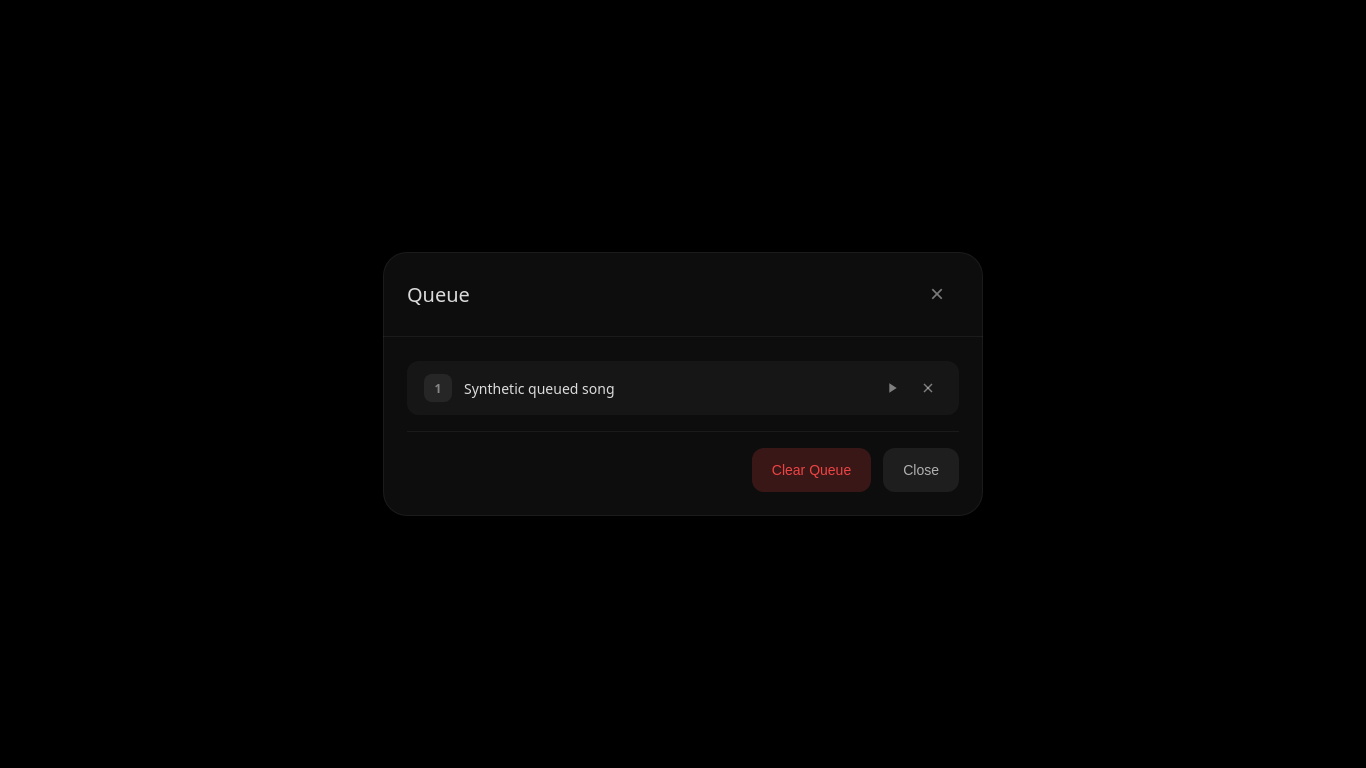
Test: Queue action refusal through the real API adapter › preserves confirmed data and exposes a refused play operation
Check: the text "Synthetic queued song" is shown, box x1=464 y1=378 x2=614 y2=398
What coordinates should you click on to do the following:
click the button named "Play Synthetic queued song now"
I would click on:
 (892, 388)
Its box is x1=878 y1=374 x2=906 y2=402.
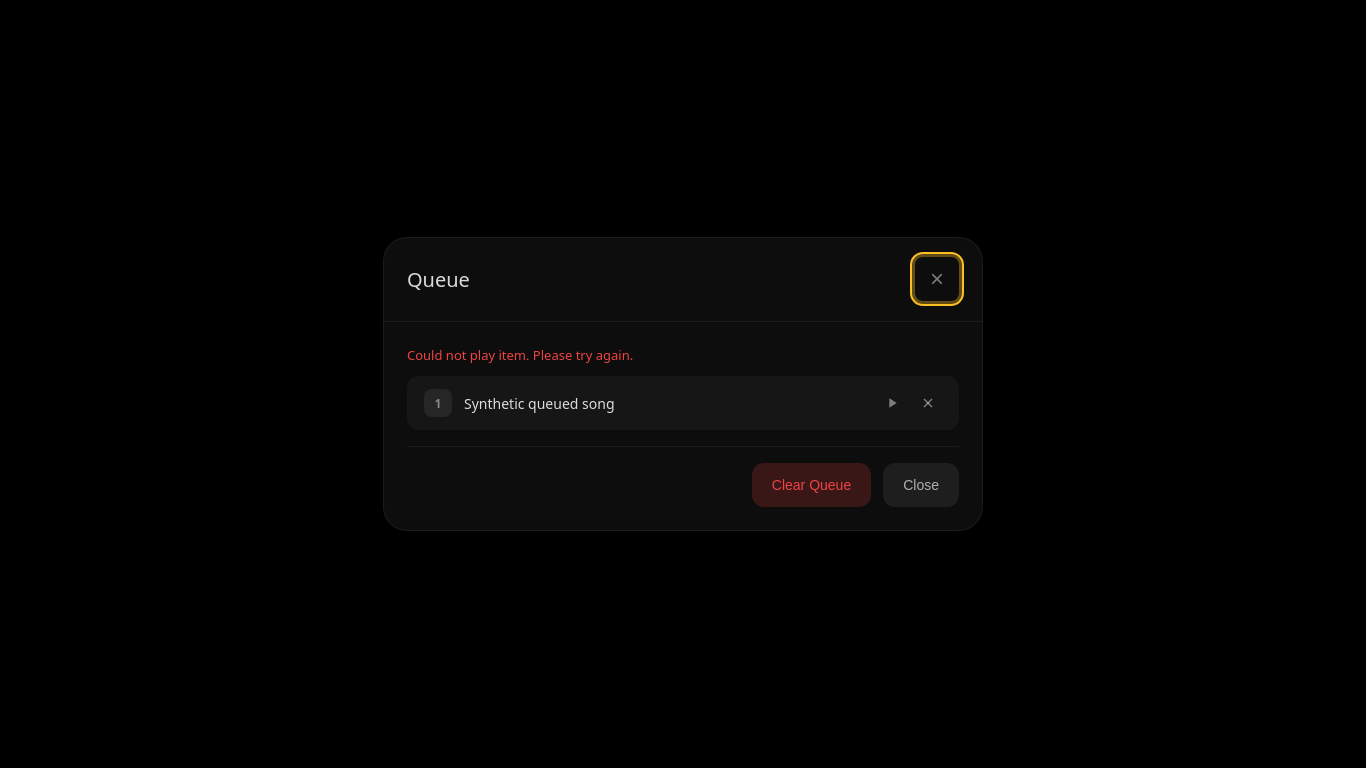
Check: the text "Synthetic queued song" is shown, box x1=464 y1=394 x2=614 y2=412
Check: the text "Could not play item. Please try again." is shown, box x1=407 y1=346 x2=633 y2=364
